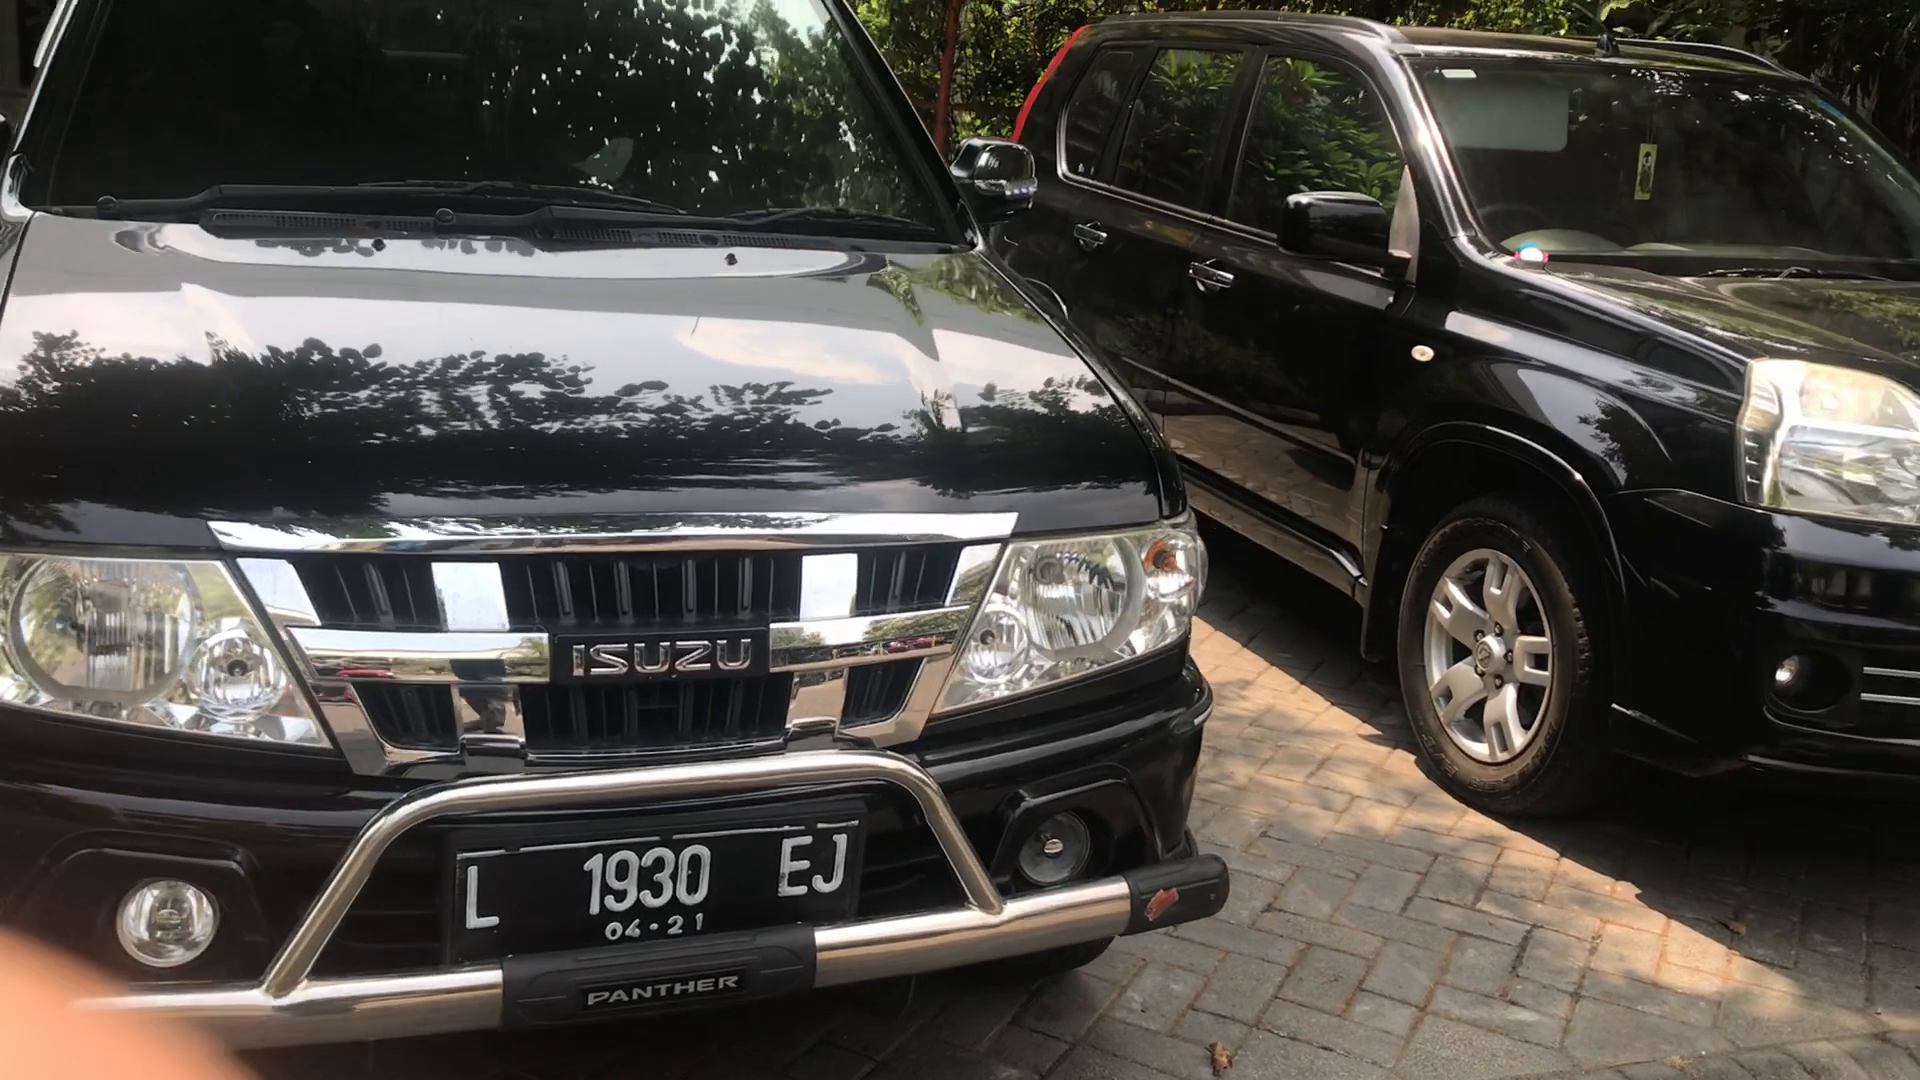plate: (455, 805, 872, 947)
